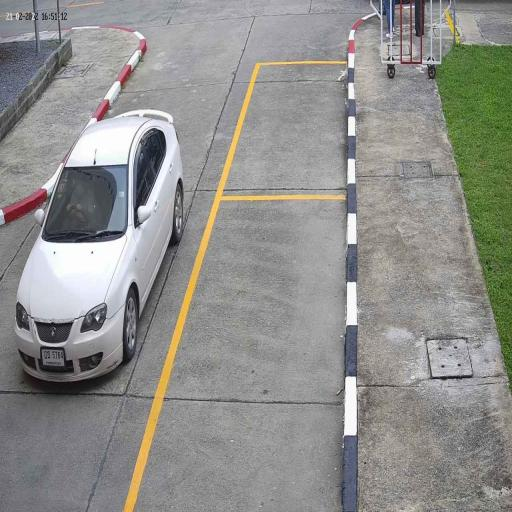car: (14, 109, 185, 386)
